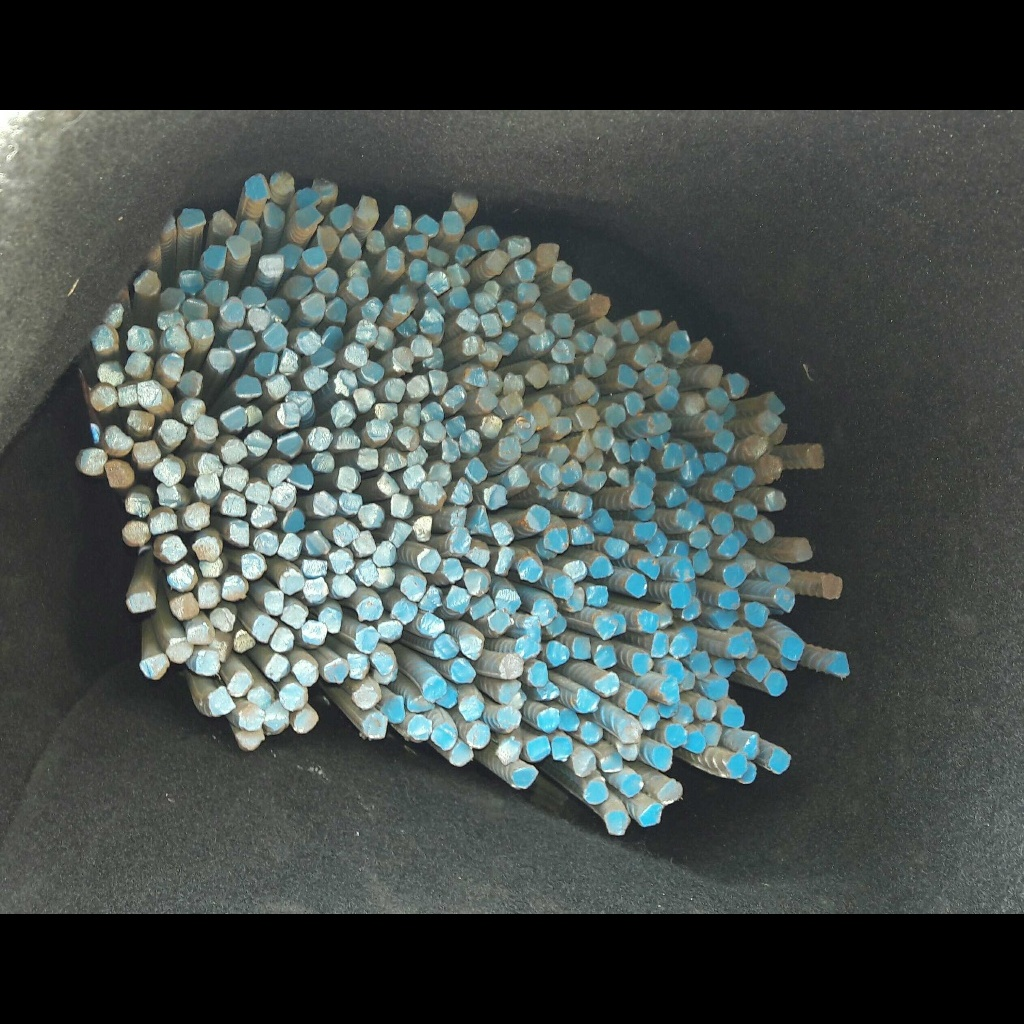dipstick: (153, 455, 185, 486), (154, 534, 186, 563), (105, 425, 134, 454), (105, 459, 134, 488), (126, 486, 154, 516), (91, 383, 117, 414), (92, 324, 119, 353), (279, 683, 308, 710), (139, 653, 169, 679), (121, 521, 152, 546), (194, 580, 221, 608), (168, 565, 197, 591), (170, 593, 199, 619), (209, 686, 234, 716), (164, 326, 191, 353), (127, 326, 155, 352), (192, 536, 221, 561), (220, 406, 247, 432), (330, 400, 356, 427), (222, 464, 248, 491), (221, 575, 248, 601), (158, 419, 186, 444), (238, 705, 266, 730), (125, 591, 156, 613), (245, 430, 271, 456), (358, 503, 384, 529), (355, 628, 381, 654), (431, 724, 457, 750), (262, 322, 287, 349), (176, 370, 203, 395), (150, 508, 177, 533), (185, 502, 210, 529), (400, 574, 425, 601), (526, 504, 551, 531), (347, 652, 371, 680), (499, 680, 527, 704), (160, 353, 183, 382), (245, 174, 270, 200), (210, 210, 236, 235), (137, 381, 162, 407), (181, 398, 206, 424), (221, 438, 246, 464), (304, 529, 329, 555), (279, 569, 304, 595), (166, 638, 192, 663), (194, 650, 220, 675), (293, 659, 318, 685), (324, 658, 350, 683), (419, 612, 444, 638), (449, 658, 475, 683), (657, 779, 683, 804), (744, 601, 769, 627), (228, 329, 255, 353), (125, 352, 152, 376), (287, 463, 311, 490), (304, 577, 328, 604), (365, 420, 392, 444), (667, 331, 691, 358), (157, 483, 185, 506), (278, 533, 301, 561), (352, 684, 380, 707), (265, 298, 290, 323), (277, 432, 302, 457), (227, 672, 252, 697), (265, 655, 290, 680), (531, 599, 556, 624), (97, 361, 123, 385), (128, 410, 154, 434), (288, 390, 312, 416), (80, 450, 106, 474), (194, 473, 218, 499), (333, 522, 359, 546), (242, 553, 266, 579), (328, 549, 354, 573), (210, 607, 236, 631), (253, 616, 277, 642), (357, 597, 383, 621), (465, 570, 489, 596), (669, 582, 693, 608), (253, 532, 280, 555), (512, 765, 539, 788), (747, 655, 770, 682), (133, 441, 161, 463), (451, 477, 473, 505), (297, 330, 321, 355), (264, 375, 289, 399), (194, 416, 218, 441), (335, 370, 359, 395), (301, 621, 326, 645), (293, 708, 318, 732), (459, 696, 483, 721), (392, 599, 417, 623), (434, 633, 458, 658), (518, 556, 542, 581), (593, 615, 617, 640), (134, 270, 160, 293), (330, 204, 353, 230), (315, 268, 338, 294), (235, 375, 261, 398), (302, 368, 328, 391), (313, 490, 336, 516), (355, 559, 378, 585), (363, 712, 386, 738), (495, 589, 521, 612), (442, 386, 465, 412), (661, 443, 684, 469), (547, 640, 569, 667), (203, 245, 227, 269), (220, 297, 244, 321), (278, 244, 302, 268), (254, 352, 278, 376), (276, 403, 300, 427), (498, 738, 522, 762), (526, 736, 550, 760), (605, 811, 629, 835), (595, 672, 619, 696), (420, 482, 444, 506), (524, 364, 548, 388), (671, 558, 695, 582), (179, 270, 204, 293), (259, 254, 284, 277), (287, 276, 312, 299), (209, 348, 234, 371), (198, 453, 223, 476), (221, 493, 246, 516), (319, 608, 342, 633), (409, 715, 432, 740), (459, 634, 482, 659), (417, 548, 440, 573), (447, 586, 470, 611), (402, 465, 425, 490), (593, 335, 616, 360), (537, 395, 562, 418), (625, 690, 648, 715), (781, 636, 804, 661), (705, 389, 728, 414), (353, 531, 375, 557), (424, 676, 446, 702), (374, 540, 396, 566), (459, 429, 481, 455), (465, 457, 487, 483), (187, 318, 214, 339), (188, 623, 215, 644), (384, 696, 405, 723), (391, 521, 411, 549), (450, 527, 470, 555), (205, 280, 228, 304), (301, 293, 324, 317), (268, 462, 291, 486), (338, 467, 361, 491), (270, 628, 293, 652), (371, 651, 394, 675), (500, 655, 524, 678), (580, 721, 603, 745), (381, 448, 405, 471), (415, 214, 439, 237), (551, 339, 575, 362), (574, 406, 598, 429), (680, 458, 703, 482), (225, 236, 250, 258), (316, 226, 338, 251), (245, 482, 270, 504), (281, 605, 306, 627), (573, 751, 595, 776), (583, 781, 608, 803), (487, 250, 509, 275), (478, 341, 500, 366), (485, 484, 507, 509), (552, 312, 574, 337), (623, 391, 645, 416), (713, 609, 738, 631), (295, 207, 321, 228), (183, 299, 209, 320), (239, 287, 265, 308), (301, 247, 327, 268), (341, 233, 362, 259), (321, 326, 342, 352), (251, 506, 277, 527), (334, 429, 360, 450), (574, 374, 595, 400), (559, 459, 580, 485), (652, 744, 673, 770), (769, 749, 790, 775), (689, 652, 710, 678), (727, 372, 748, 398), (376, 621, 403, 641), (661, 675, 680, 703), (239, 221, 262, 244), (160, 288, 183, 311), (346, 277, 369, 300), (309, 427, 332, 450), (345, 344, 368, 367), (470, 597, 493, 620), (464, 364, 487, 387), (645, 364, 668, 387), (545, 529, 568, 552), (325, 298, 347, 322), (282, 508, 304, 532), (498, 706, 520, 730), (488, 610, 512, 632), (426, 272, 448, 296), (480, 313, 502, 337), (503, 373, 525, 397), (717, 534, 739, 558), (753, 519, 775, 543), (263, 202, 284, 227), (362, 359, 383, 384), (421, 310, 442, 335), (427, 370, 448, 395), (498, 331, 519, 356), (605, 403, 626, 428), (647, 412, 672, 433), (703, 410, 724, 435), (393, 347, 413, 373), (829, 651, 849, 677), (158, 311, 185, 330), (338, 492, 361, 514), (396, 427, 418, 450), (442, 212, 464, 235), (473, 291, 495, 314), (656, 386, 679, 408), (592, 427, 614, 450), (563, 491, 586, 513), (637, 558, 660, 580), (621, 774, 644, 796), (765, 672, 787, 695), (669, 634, 691, 657), (723, 565, 746, 587), (712, 512, 734, 535), (732, 466, 755, 488), (356, 321, 377, 345), (375, 327, 396, 351), (229, 521, 250, 545), (332, 575, 356, 596), (468, 724, 489, 748), (537, 708, 558, 732), (594, 644, 615, 668), (391, 494, 412, 518), (563, 560, 587, 581), (546, 613, 567, 637), (625, 574, 646, 598), (665, 723, 686, 747), (821, 574, 842, 598), (756, 412, 780, 433), (263, 591, 283, 616), (500, 436, 520, 461), (594, 508, 614, 533), (570, 524, 595, 544), (646, 531, 666, 556), (179, 209, 205, 228), (280, 350, 299, 376), (392, 204, 411, 230), (497, 300, 516, 326), (495, 547, 513, 574), (353, 389, 375, 411), (450, 744, 472, 766), (577, 690, 599, 712), (429, 463, 451, 485), (411, 335, 433, 357), (405, 234, 427, 256), (536, 243, 558, 265), (514, 260, 536, 282), (523, 311, 545, 333), (423, 421, 445, 443), (445, 416, 467, 438), (639, 804, 661, 826), (722, 705, 744, 727), (270, 172, 293, 193), (384, 379, 405, 402), (551, 262, 572, 285), (492, 522, 513, 545), (500, 393, 521, 416), (634, 344, 655, 367), (635, 466, 656, 489), (637, 610, 658, 633), (672, 702, 693, 725), (711, 481, 734, 502), (714, 429, 735, 452), (358, 197, 378, 221), (528, 662, 548, 686), (553, 576, 573, 600), (604, 538, 628, 558), (675, 509, 699, 529), (726, 754, 746, 778), (198, 558, 223, 577), (515, 637, 540, 656), (413, 517, 432, 542), (507, 236, 532, 255), (461, 335, 486, 354), (618, 363, 637, 388), (693, 550, 712, 575), (703, 452, 728, 471), (387, 246, 405, 272), (248, 308, 269, 330), (477, 229, 499, 250), (448, 287, 469, 309), (585, 354, 606, 376), (630, 485, 651, 507), (586, 585, 607, 607), (727, 636, 749, 657), (681, 393, 702, 415), (311, 453, 334, 473), (558, 708, 578, 731), (378, 473, 398, 496), (425, 247, 448, 267), (517, 283, 540, 303), (590, 292, 610, 315), (630, 438, 650, 461), (633, 521, 656, 541), (591, 557, 614, 577), (774, 589, 794, 612), (741, 733, 758, 760), (363, 297, 382, 321), (458, 308, 477, 332), (541, 463, 560, 487), (665, 661, 684, 685), (806, 444, 825, 468), (744, 436, 768, 455), (767, 390, 786, 414), (312, 178, 337, 196), (612, 439, 630, 464), (357, 449, 378, 470), (569, 279, 590, 300), (509, 465, 530, 486), (686, 730, 707, 751), (695, 699, 716, 720), (765, 490, 786, 511), (297, 188, 319, 208), (442, 559, 462, 581), (551, 738, 571, 760), (390, 294, 412, 314), (455, 245, 477, 265), (477, 389, 497, 411), (706, 680, 728, 700), (689, 528, 711, 548), (409, 375, 428, 398), (566, 588, 585, 611), (482, 415, 501, 438), (619, 723, 642, 742), (600, 753, 623, 772), (702, 723, 721, 746), (767, 565, 790, 584), (793, 538, 812, 561), (233, 632, 254, 652), (469, 547, 489, 568), (407, 258, 427, 279), (574, 330, 595, 350), (666, 486, 687, 506), (632, 653, 652, 674), (366, 230, 385, 252), (248, 687, 270, 706), (375, 403, 397, 422), (546, 446, 568, 465), (584, 470, 606, 489), (639, 707, 658, 729), (682, 597, 701, 619), (703, 365, 722, 387), (347, 261, 370, 279), (244, 403, 262, 426), (441, 439, 459, 462), (620, 320, 638, 343), (694, 338, 712, 361), (637, 310, 662, 326), (652, 632, 668, 657), (715, 657, 735, 677), (596, 317, 617, 336), (548, 365, 569, 384), (420, 402, 442, 420), (718, 591, 740, 609), (738, 761, 756, 783), (403, 405, 420, 428), (617, 742, 639, 759), (608, 468, 628, 486), (550, 417, 572, 433), (574, 636, 589, 659), (735, 505, 756, 519)
